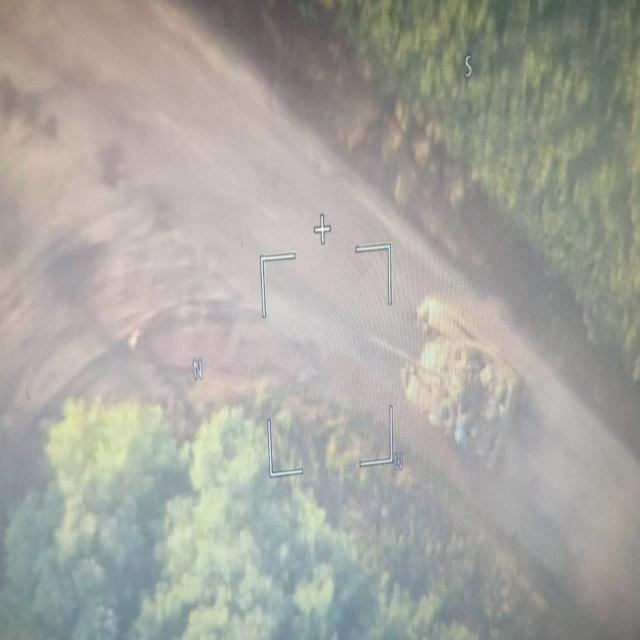vehicle: (401, 291, 525, 467)
